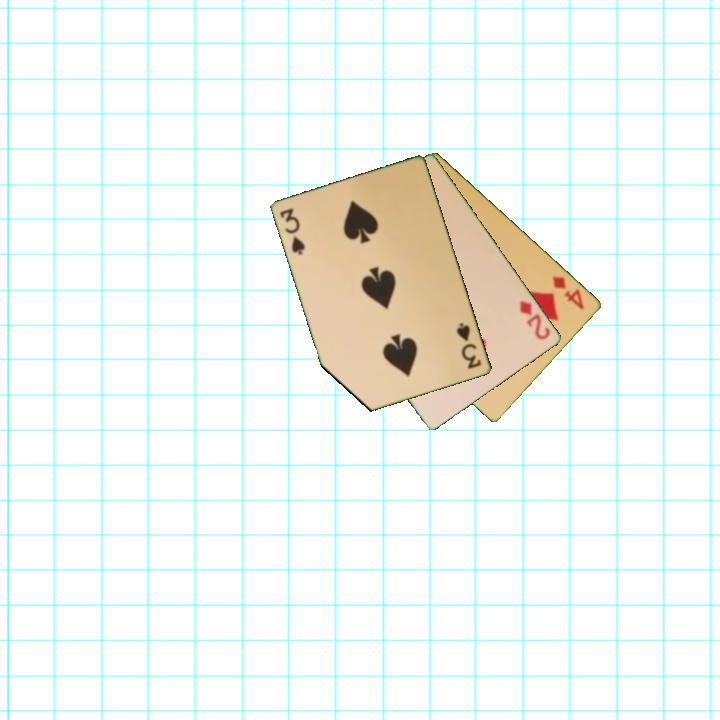2d: (516, 297, 554, 343)
3s: (453, 319, 485, 372), (277, 205, 308, 258)
4d: (549, 272, 588, 312)
